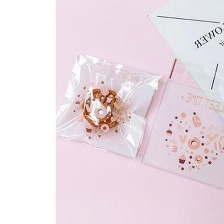snack: (56, 48, 166, 165), (136, 74, 224, 193)
